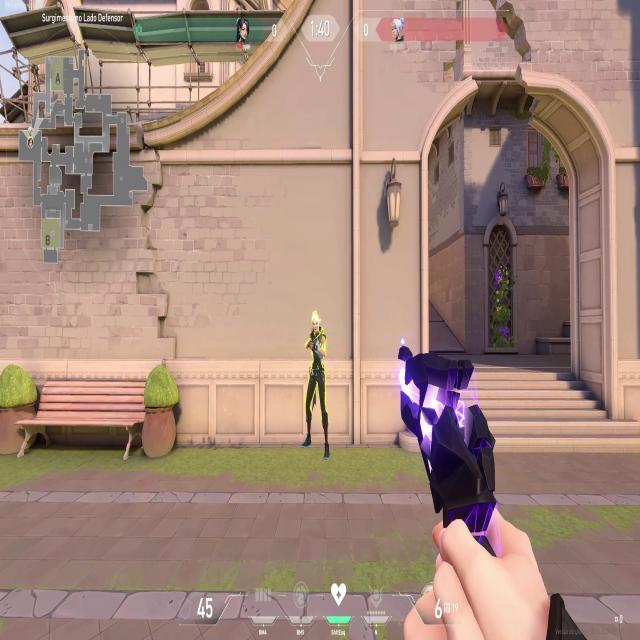head: (310, 312, 322, 333)
